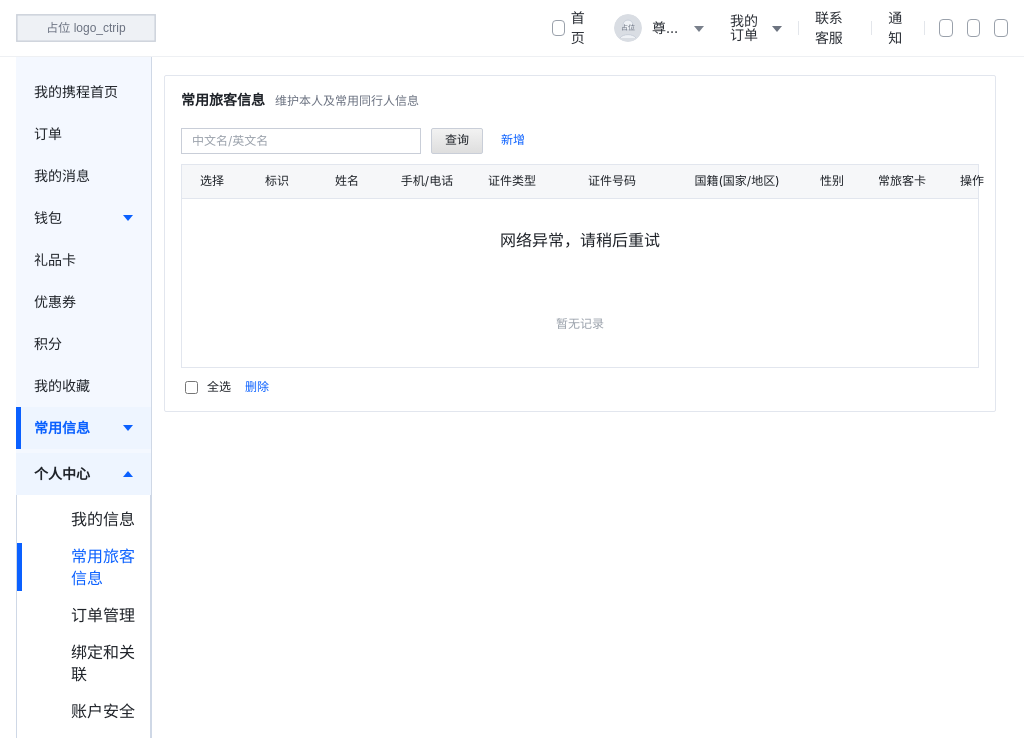
Test: 个人中心 - 常用旅客信息列表页 场景用例 › Scenario 3.2.3: 点击“新增”跳转常用旅客信息编辑页
Click the link "新增".
click(513, 141)  # box [501,132,525,149]
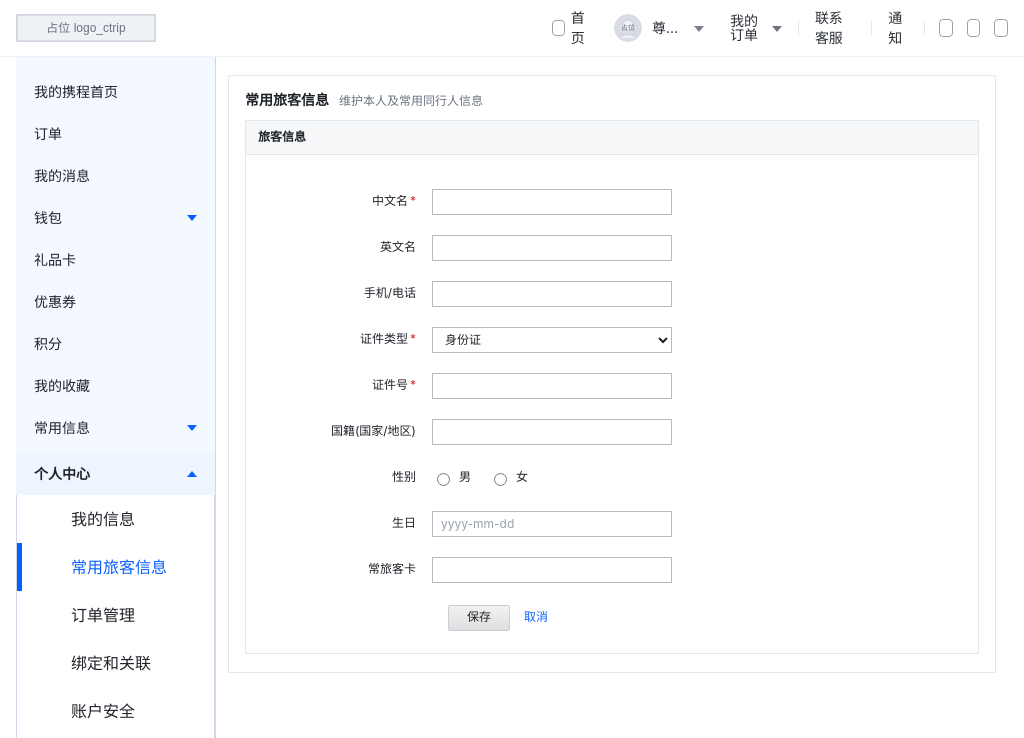
Now the button "保存" is shown, box [448,605,510,631]
